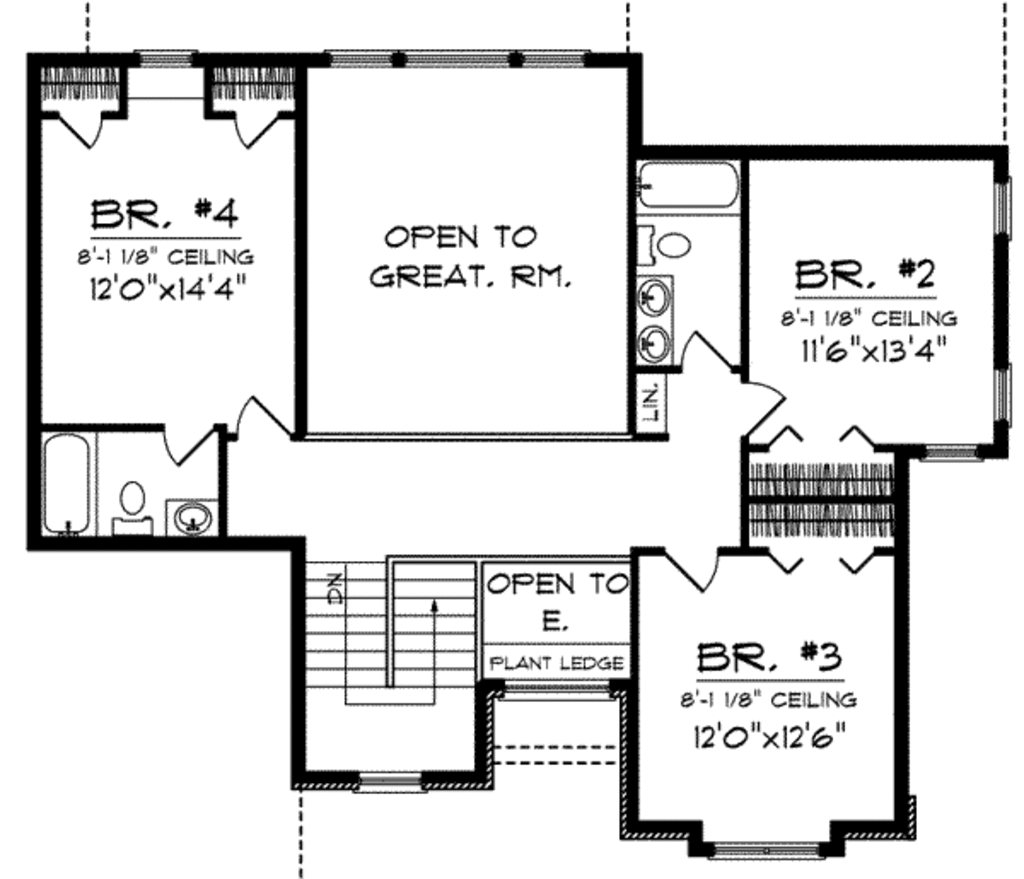door: (232, 392, 293, 446), (733, 379, 790, 436), (52, 104, 111, 155), (664, 546, 725, 593), (675, 330, 731, 377), (157, 422, 214, 468), (227, 105, 277, 146)
large_sink: (631, 215, 695, 273), (107, 474, 158, 542)
small_sink: (634, 272, 675, 369), (166, 495, 225, 544)
stairs: (293, 549, 497, 797)
tub: (626, 152, 753, 222), (39, 431, 100, 542)
windows: (319, 41, 596, 76), (496, 675, 611, 703), (704, 839, 830, 860), (989, 356, 1019, 430), (128, 41, 198, 70), (912, 439, 985, 465), (991, 178, 1016, 244)
